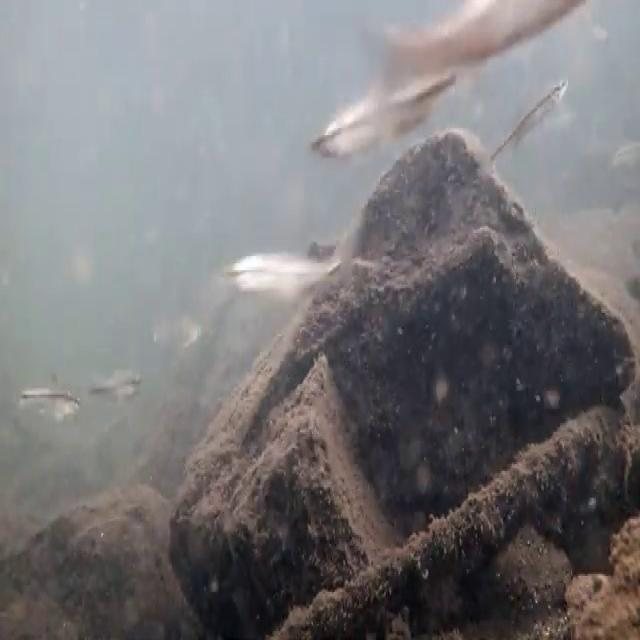Cakil Baligi: (322, 54, 452, 158), (490, 74, 566, 173), (227, 257, 341, 298), (11, 368, 82, 432)
